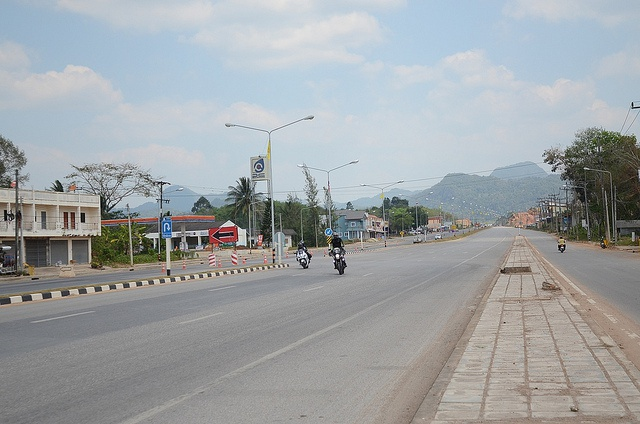non-vehicle: (328, 245, 347, 274), (295, 248, 309, 268), (596, 235, 607, 248), (557, 243, 567, 253)
